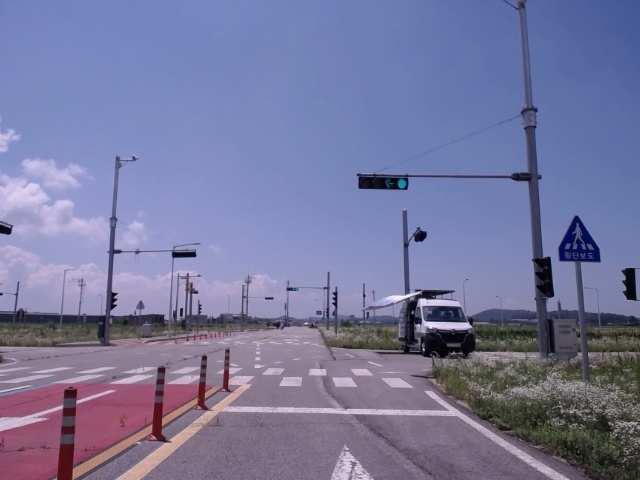all_green_4: (357, 174, 404, 191)
